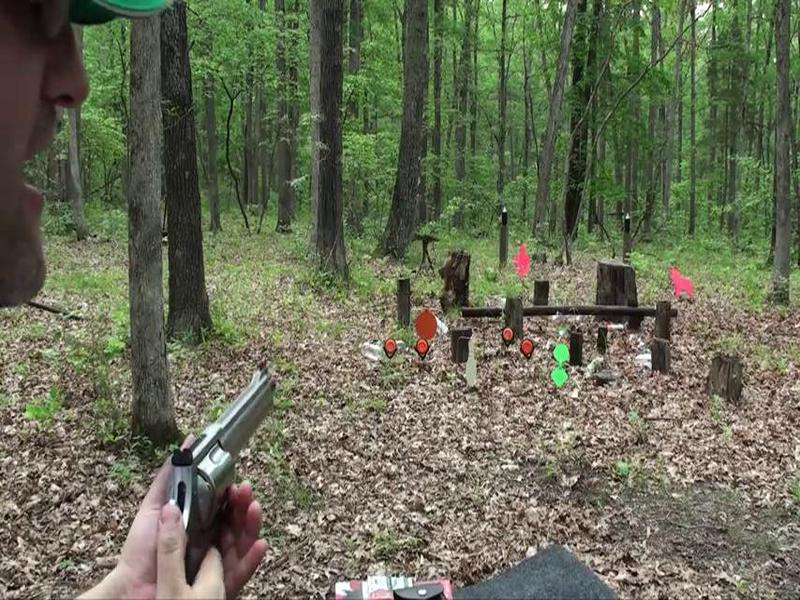Revolver: (79, 344, 315, 582)
